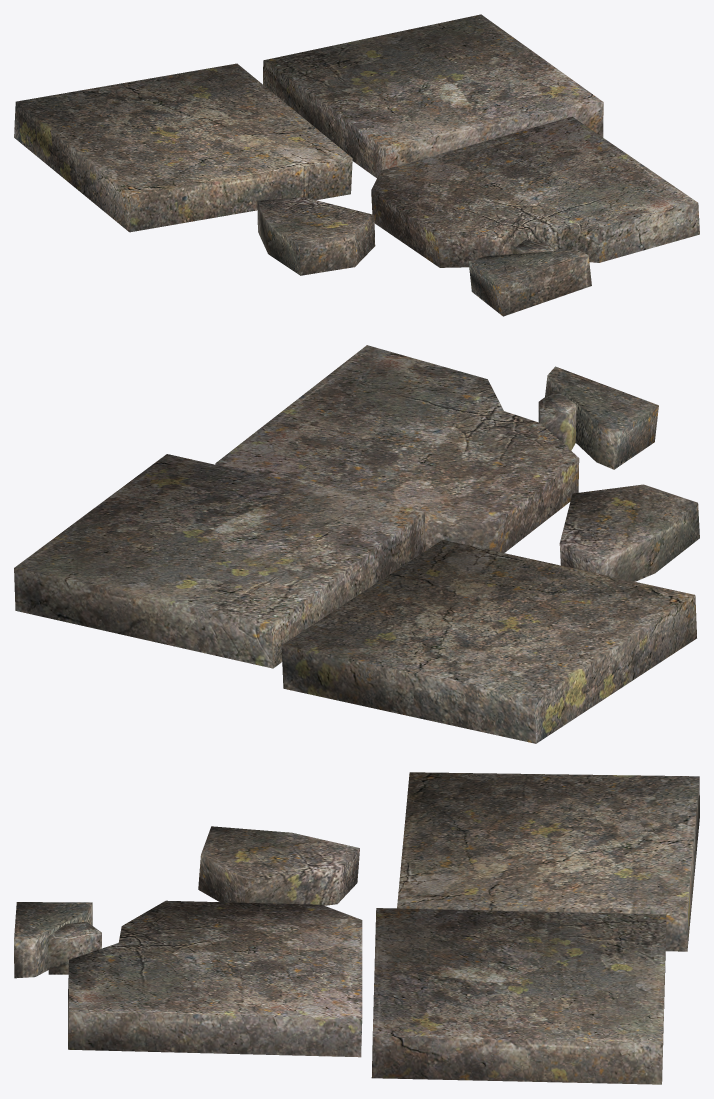
File: brick1.fbx
3 views of the same model, one above another, from view 1: azimuth 30°, elevation 25°; view 2: azimuth 150°, elevation 25°; view 3: azimuth 270°, elevation 25° (orthographic). The views are drawn at different scales.
Visible parts, largest first — view 1: polySurface99; view 2: polySurface99; view 3: polySurface99.
Part boxes in pixels (x1,y1,x2,y2): polySurface99: (14, 14, 699, 316); polySurface99: (14, 345, 699, 743); polySurface99: (14, 772, 699, 1084).
Size of the model in its own units: 3.96 by 0.3956 by 4.39.
